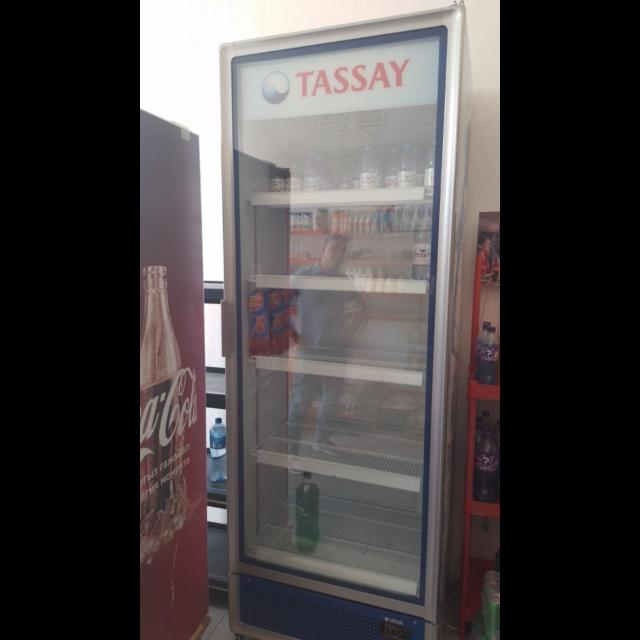Cooling-Display: (218, 1, 466, 639)
